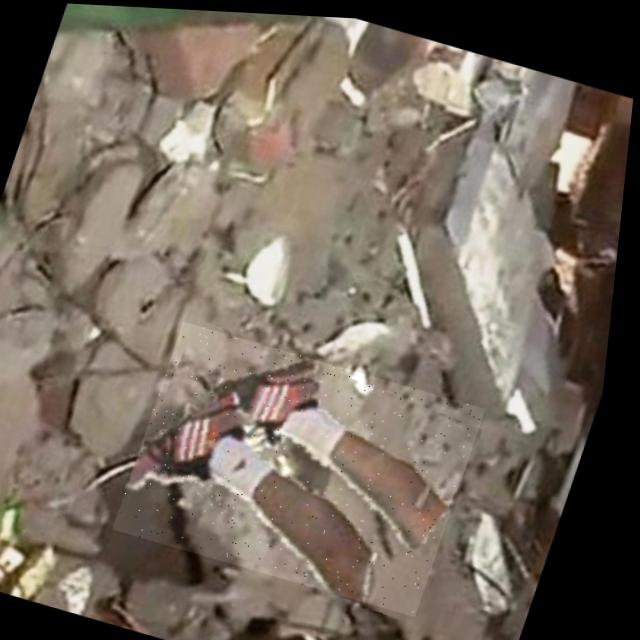Person in Rubble: (117, 317, 498, 613)
